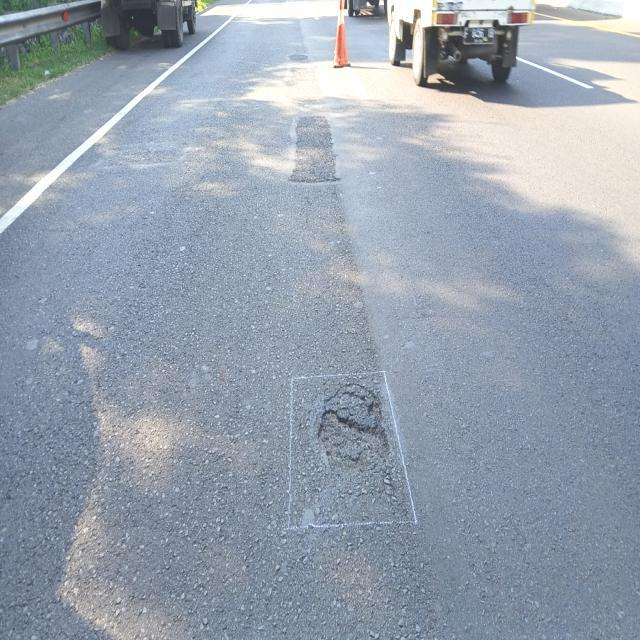Buraco: (313, 381, 393, 476)
